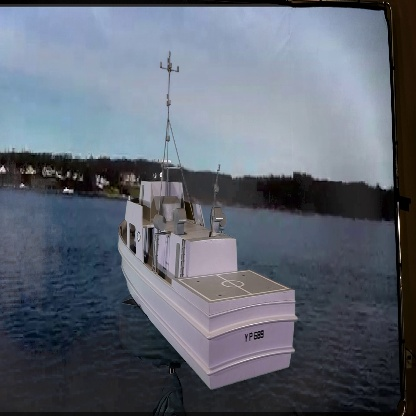YP689: (115, 54, 298, 392)
